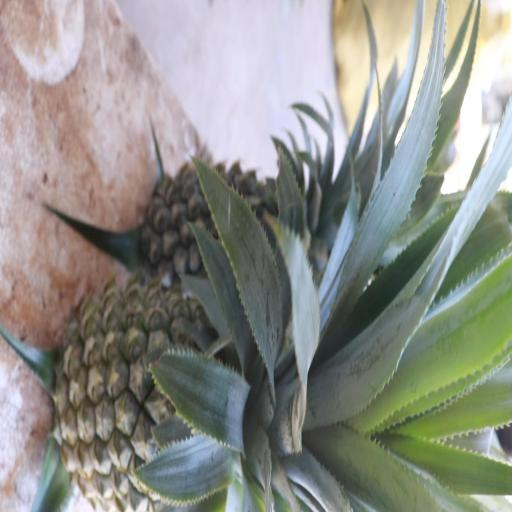------------------------------: (56, 280, 273, 503)
